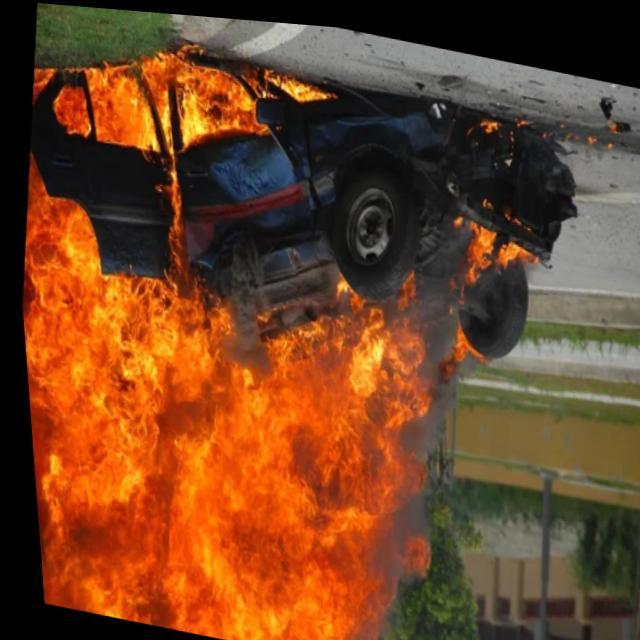Fire: (2, 39, 469, 640), (441, 205, 532, 293)
